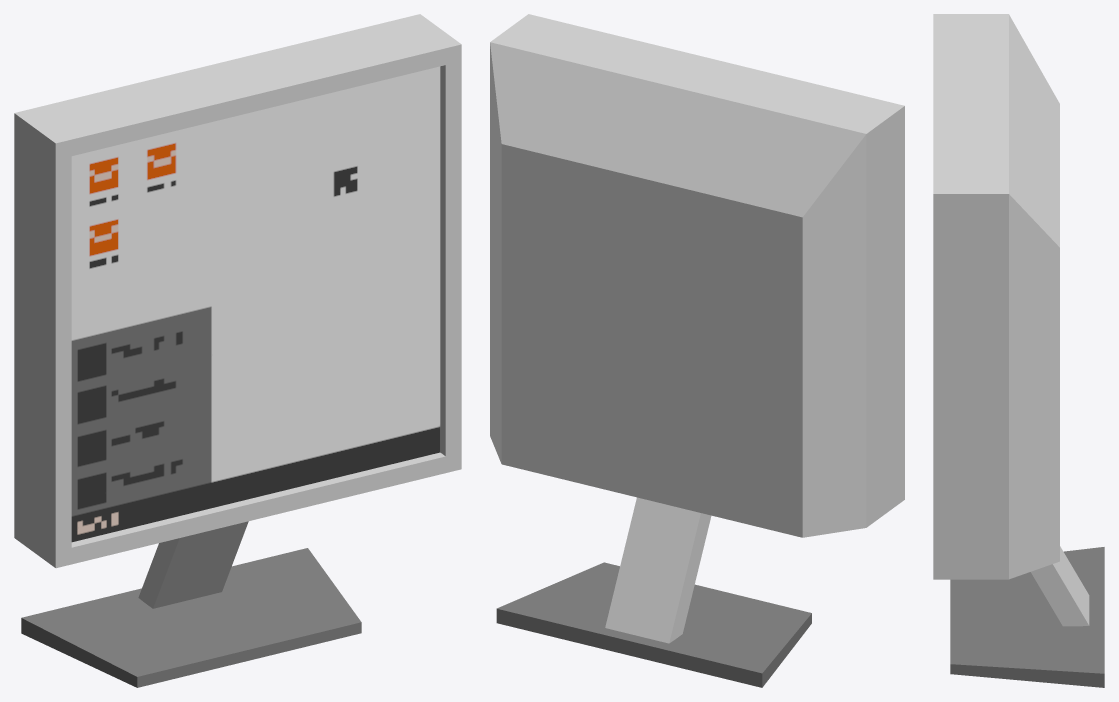
File: monitor.glb
3 views of the same model, side by side, from view 1: azimuth 30°, elevation 25°; view 2: azimuth 150°, elevation 25°; view 3: azimuth 270°, elevation 25° (orthographic). The views are drawn at different scales.
Parts seen in each view (by area): view 1: Computer_Monitor; view 2: Computer_Monitor; view 3: Computer_Monitor.
Boxes of the visible parts, box(x1,y1,x2,y2) form: Computer_Monitor: box(14, 14, 461, 687); Computer_Monitor: box(490, 14, 904, 687); Computer_Monitor: box(933, 14, 1104, 687).
Bounding box in the file's own units: 0.4 × 0.5399 × 0.1608.
2 materials, 2 textured.
